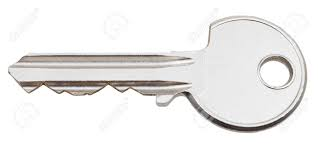key: (9, 15, 307, 134)
